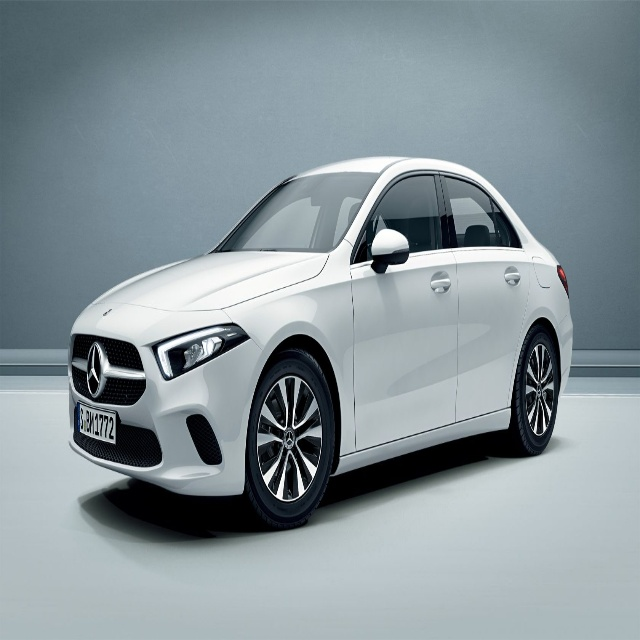Car: (67, 155, 574, 534)
